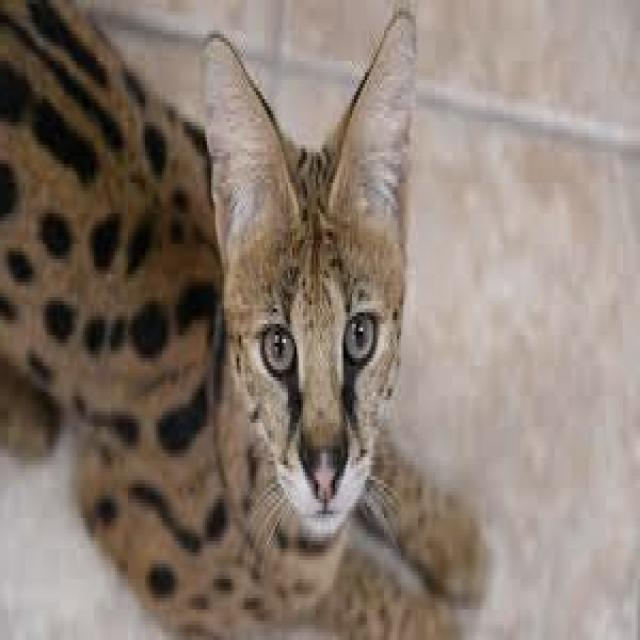cat: (2, 0, 484, 636)
